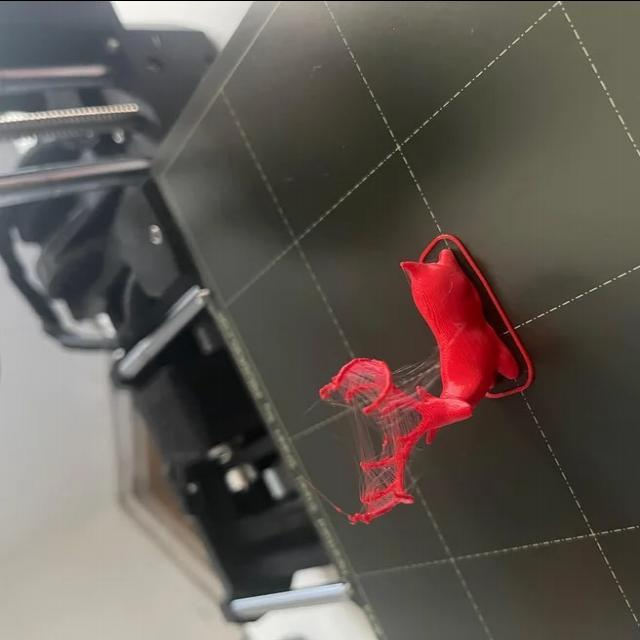Stringing: (398, 358, 437, 392), (386, 406, 414, 440), (344, 364, 380, 389), (354, 412, 374, 456), (364, 467, 393, 493)
